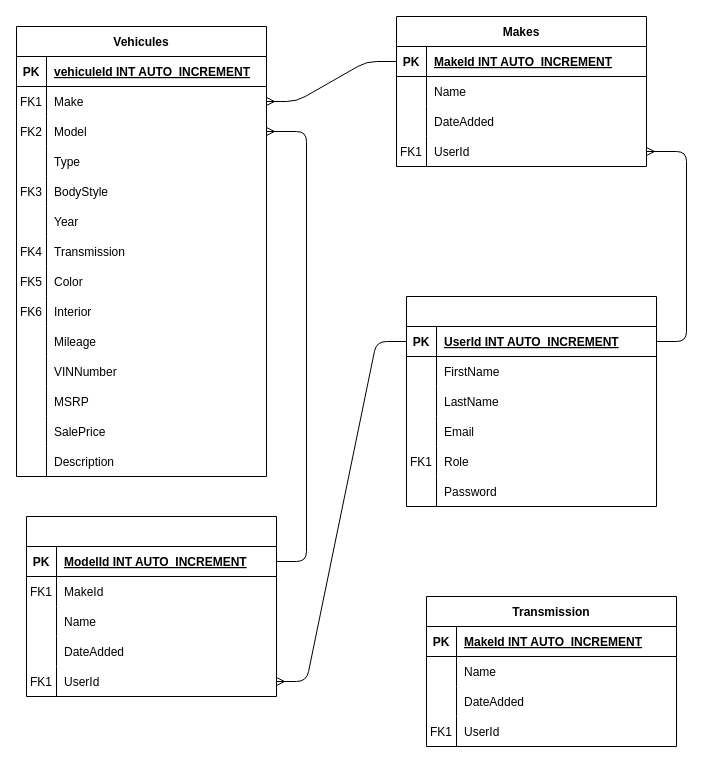
This 703x763 diagram has some shape labels left out. Each missing label, with the box of its shape:
Models: (26, 516, 276, 696)
Users: (406, 296, 656, 506)
